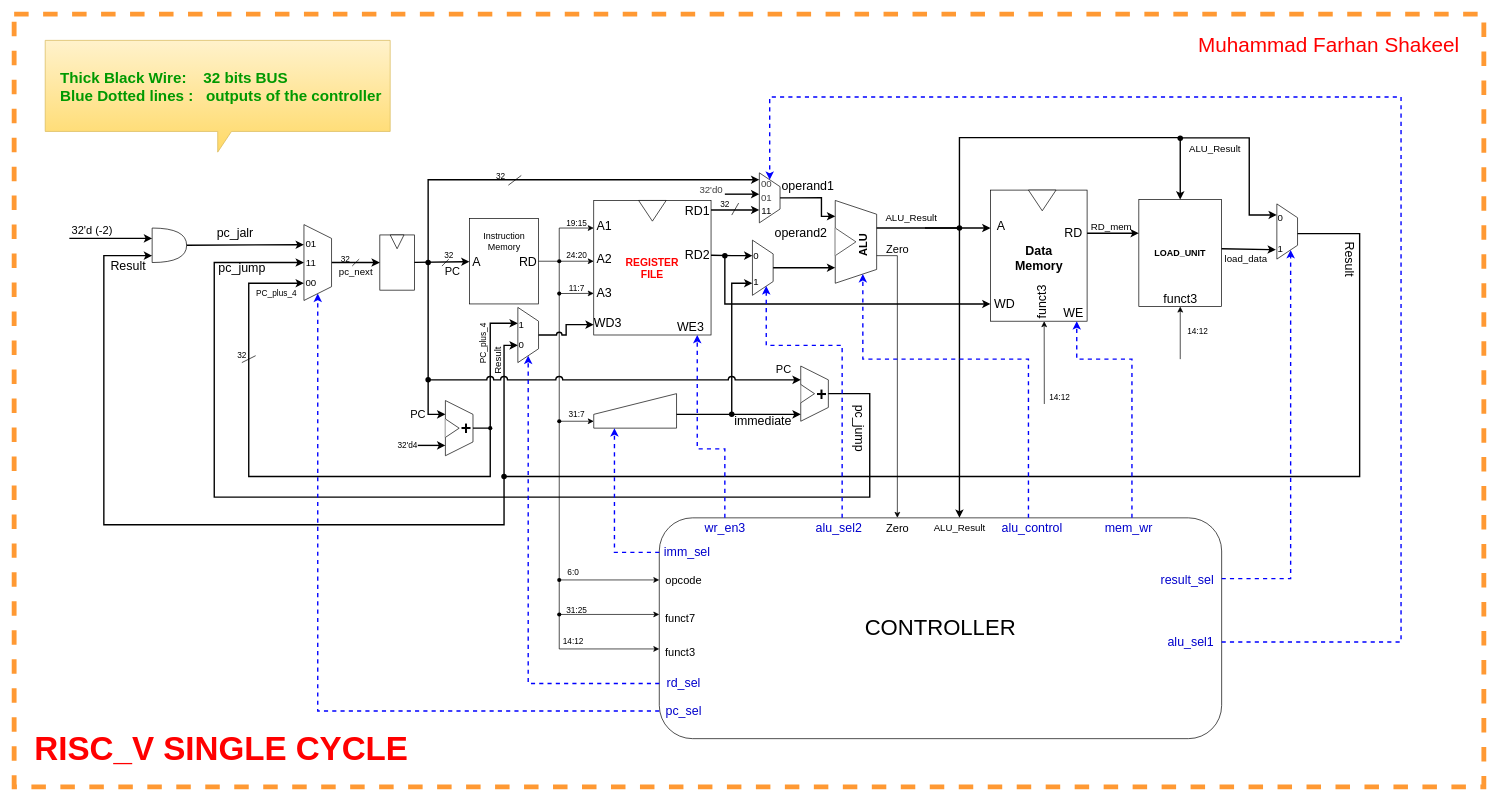
This 1498x801 diagram has some shape labels left out. The shapes that lost their labels are listed below. From the top down, each one's box as (x1, y1, x2, y2) in pixels, then its label:
(638, 200, 666, 221): clk
(593, 393, 677, 428): Imm_gen
